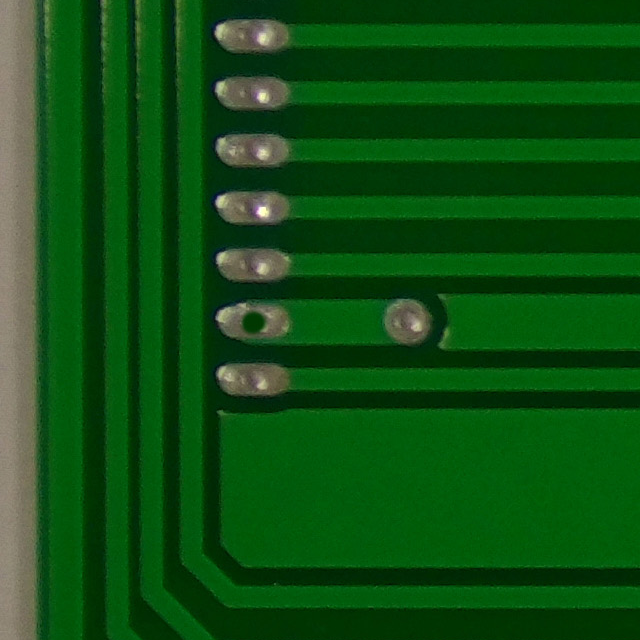missing_hole: (219, 288, 281, 352)
